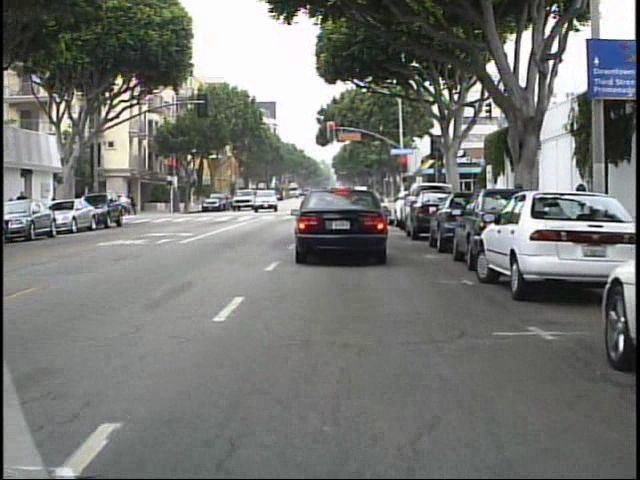person: (16, 187, 33, 231), (123, 189, 139, 218)
